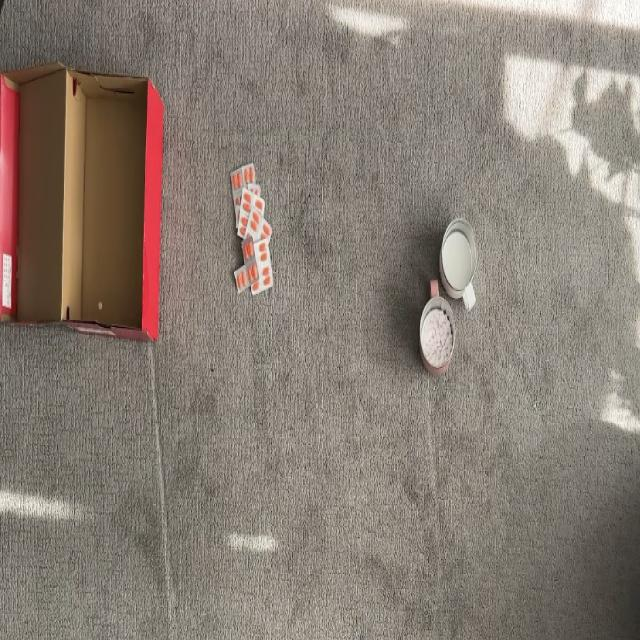IBC: (419, 280, 456, 374), (440, 218, 477, 309)
